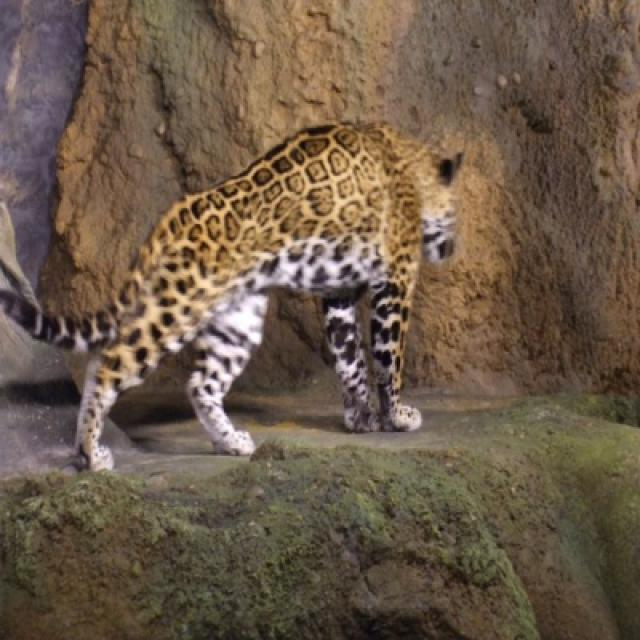Jaguar: (0, 125, 464, 472)
